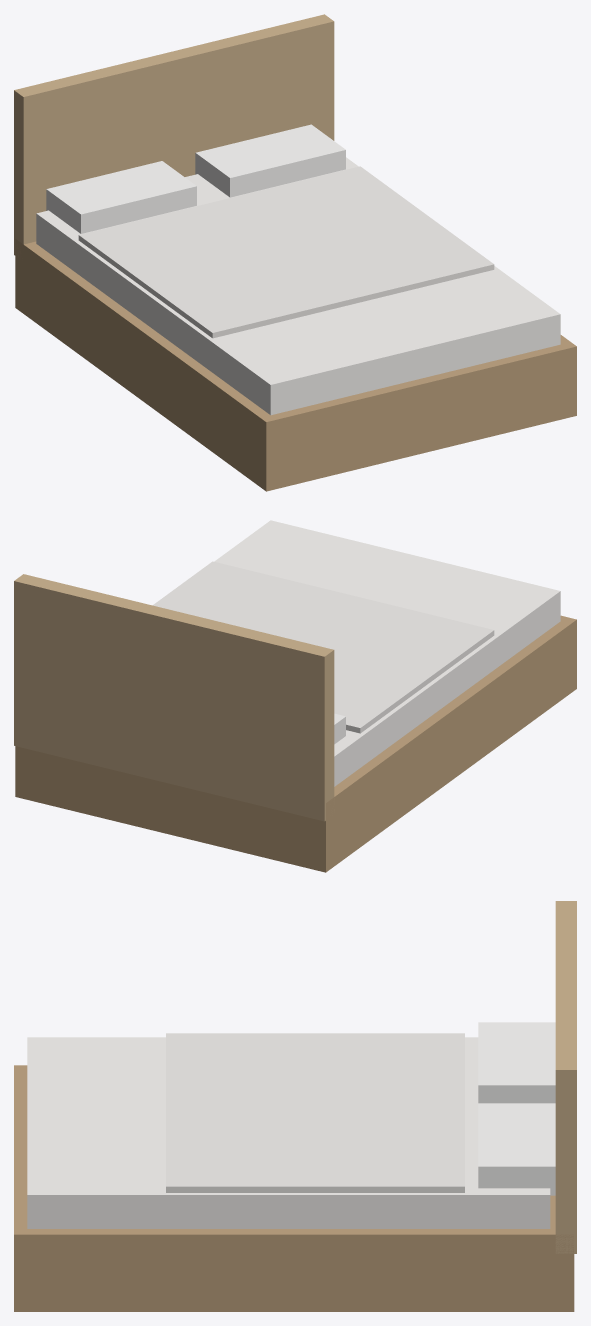
The model's file is bed_double.glb.
The picture shows the model from 3 angles, top to bottom: view 1: azimuth 30°, elevation 25°; view 2: azimuth 150°, elevation 25°; view 3: azimuth 270°, elevation 25°; orthographic projection. The views are drawn at different scales.
Size of the model in its own units: 1.5 by 1 by 2.11.
